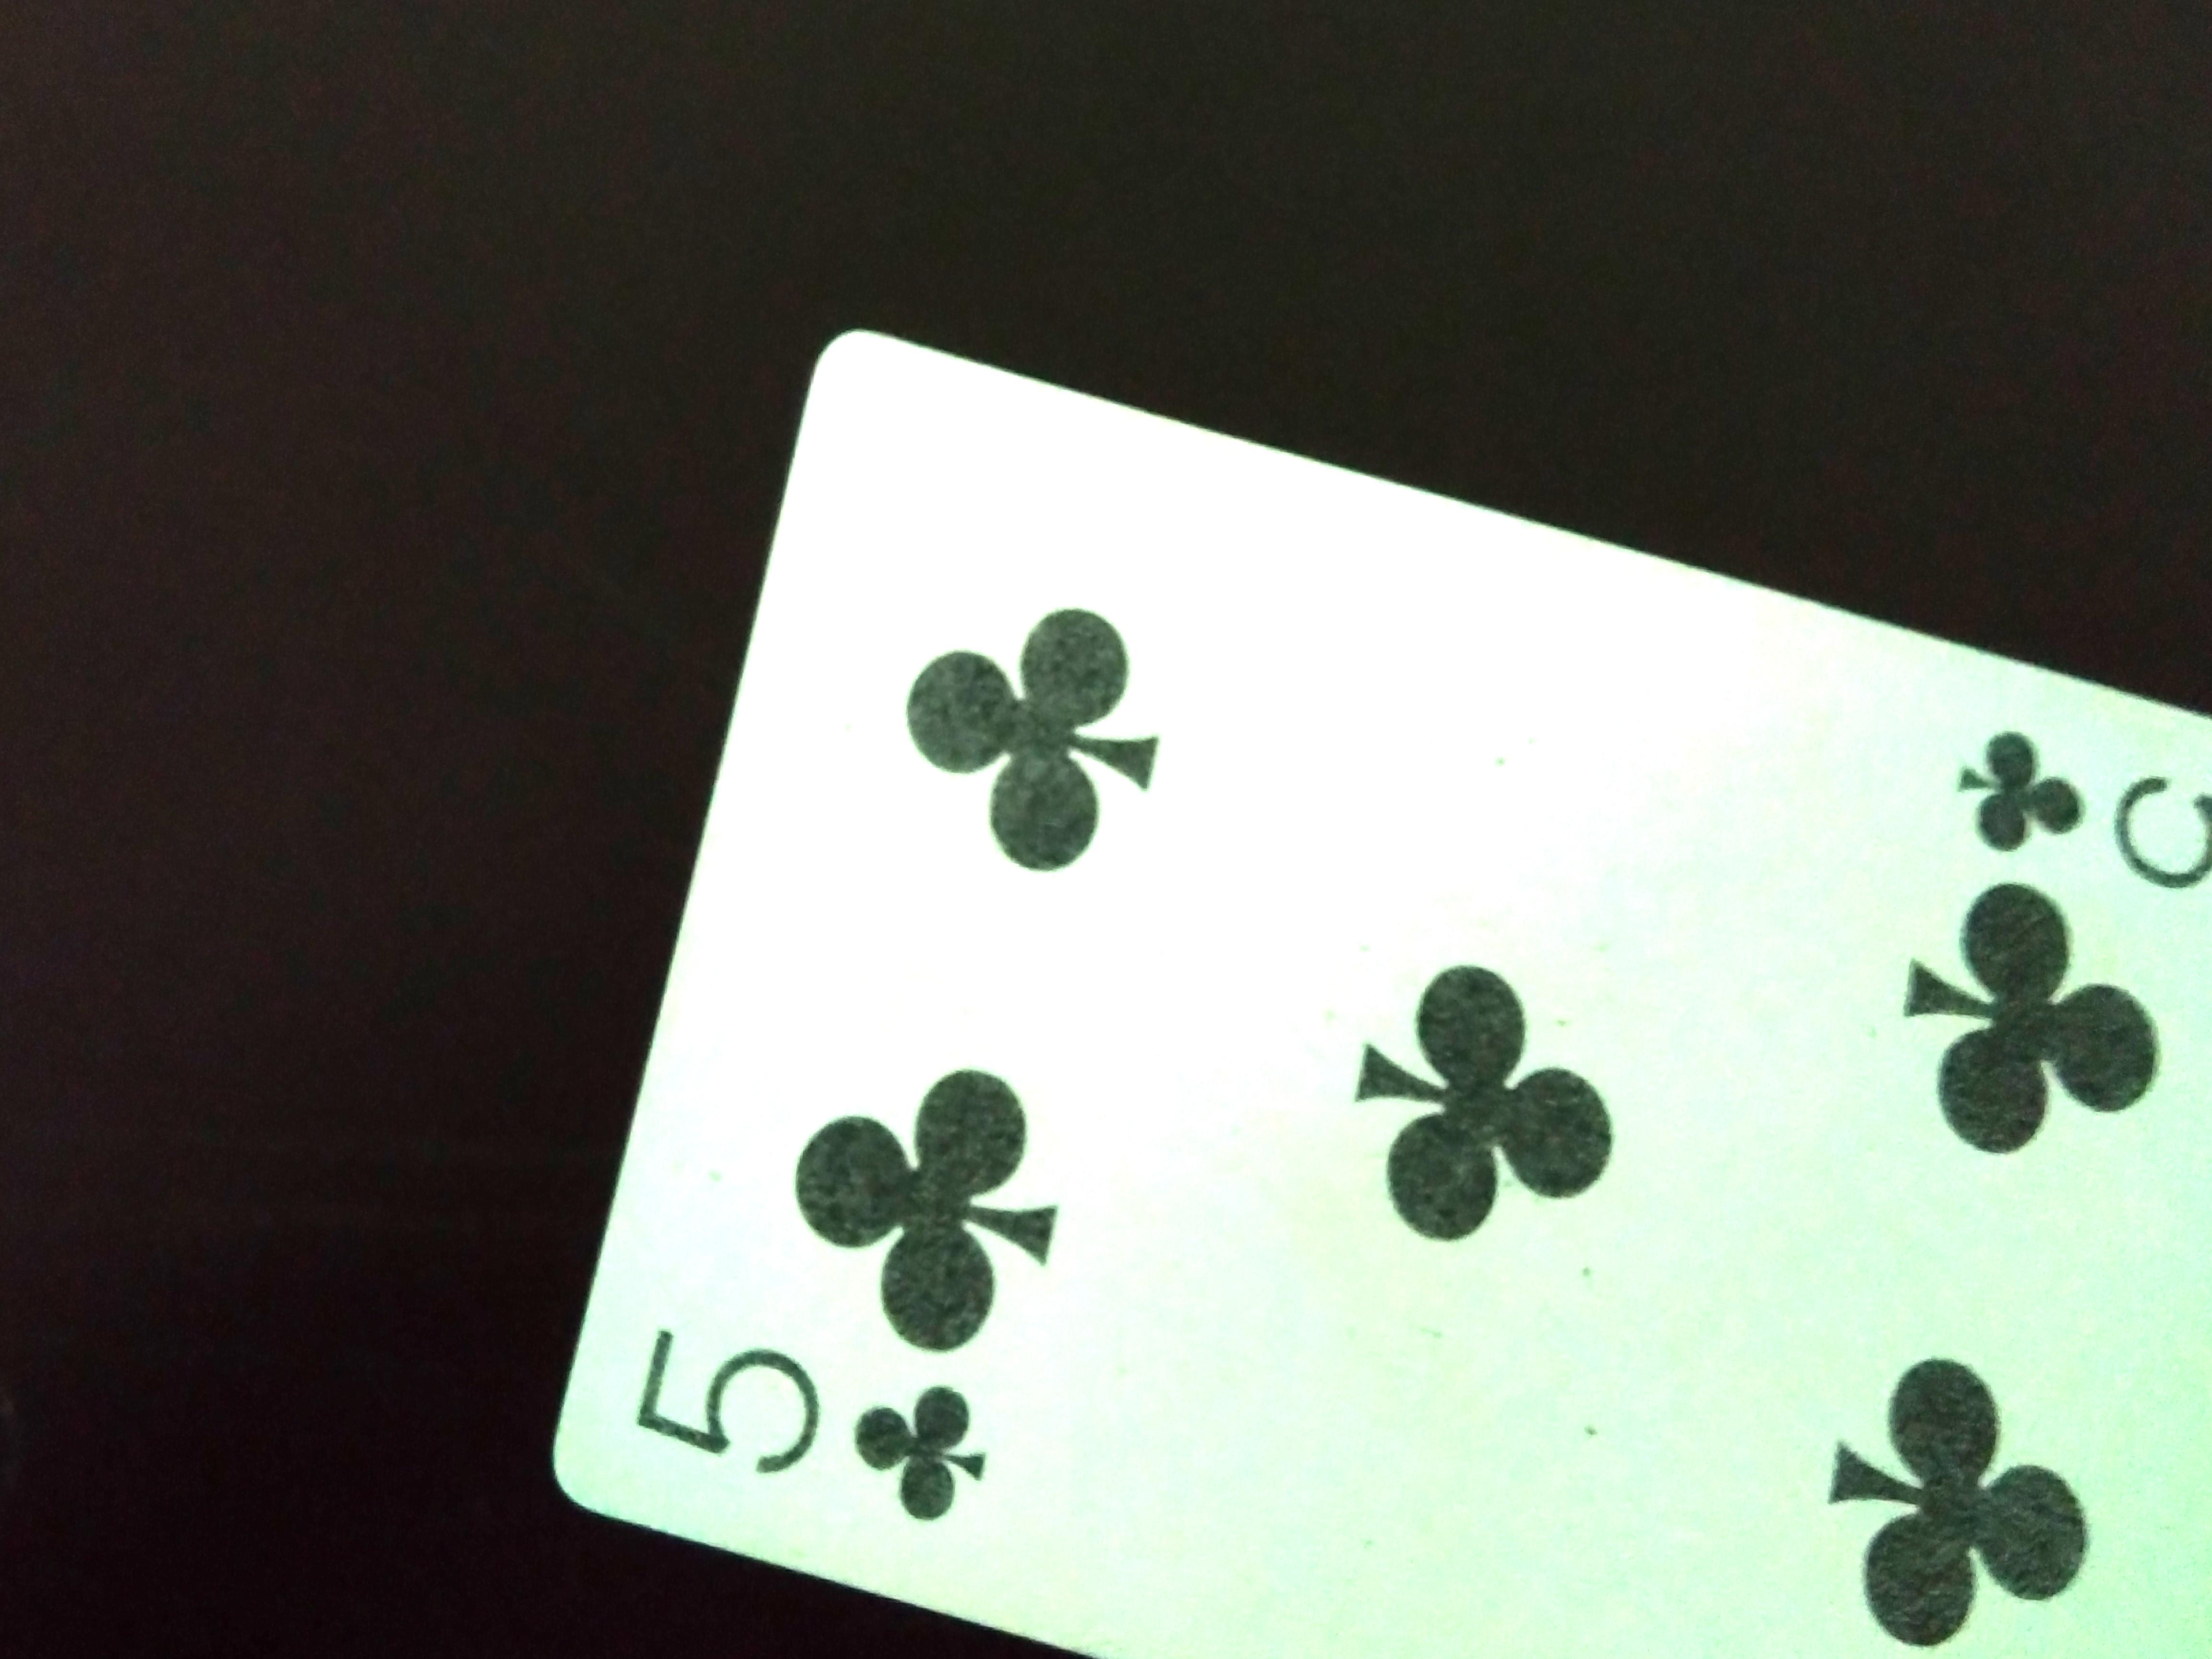5C: (608, 1314, 1021, 1567)
